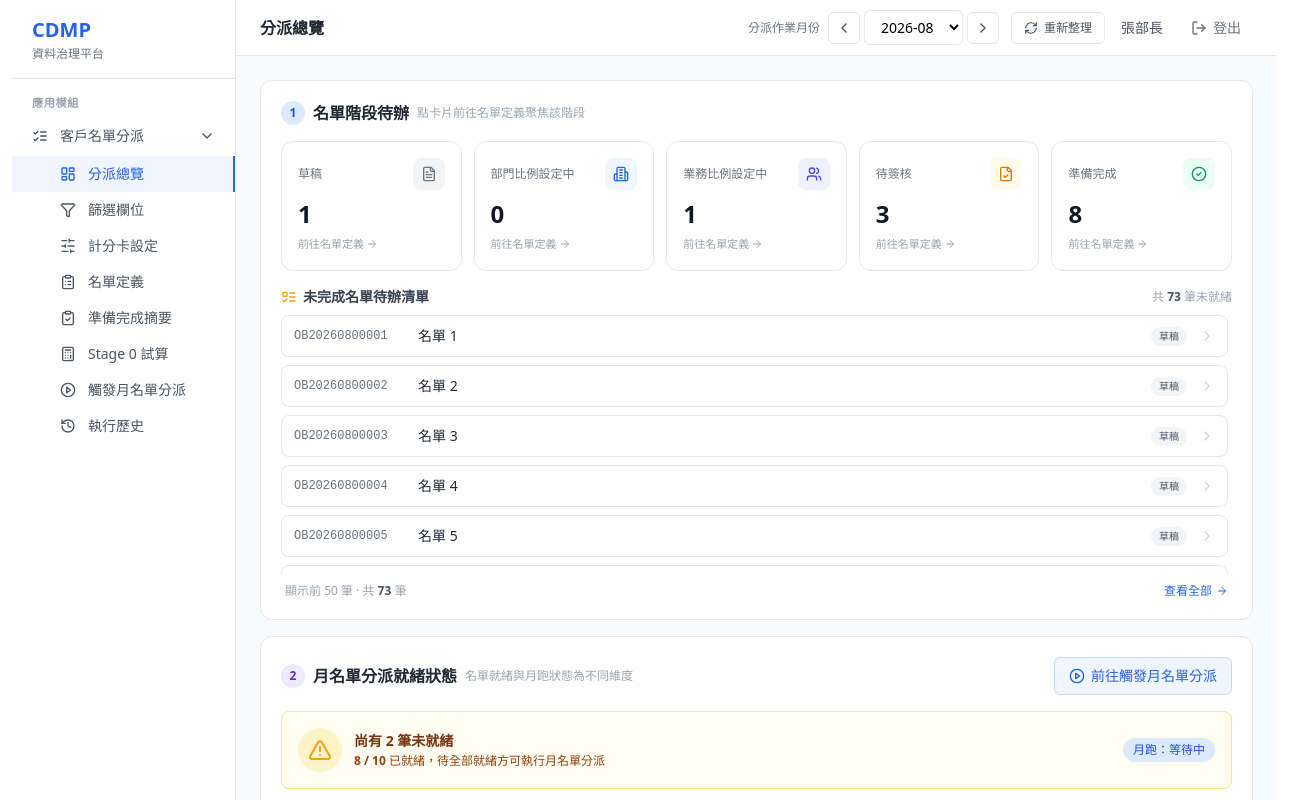
Test case: PANEL — 各區塊特定行為 › TS-F111-FE-PANEL-005：notReadyCount>50 → 僅顯示前 50 筆 + 查看全部
Click the button with test id "todo-view-all". click: (1196, 591)
box: [1164,583,1228,599]
(page scrolled)
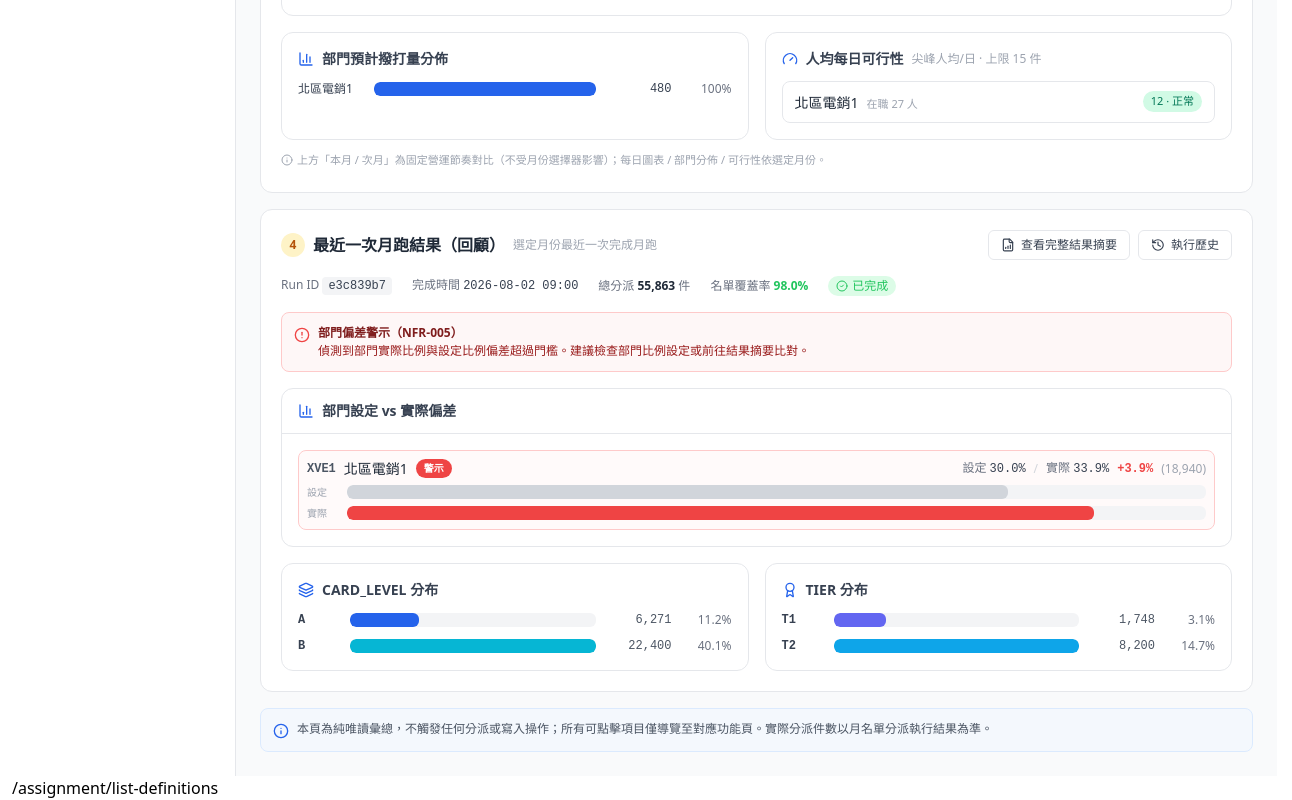
Expected: the text with test id "location" reads "/assignment/list-definitions", [12,777,218,799]
